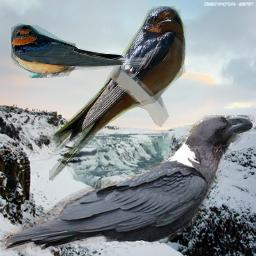Crow: (1, 115, 255, 253)
Swallow: (49, 6, 186, 180), (8, 22, 147, 78)
